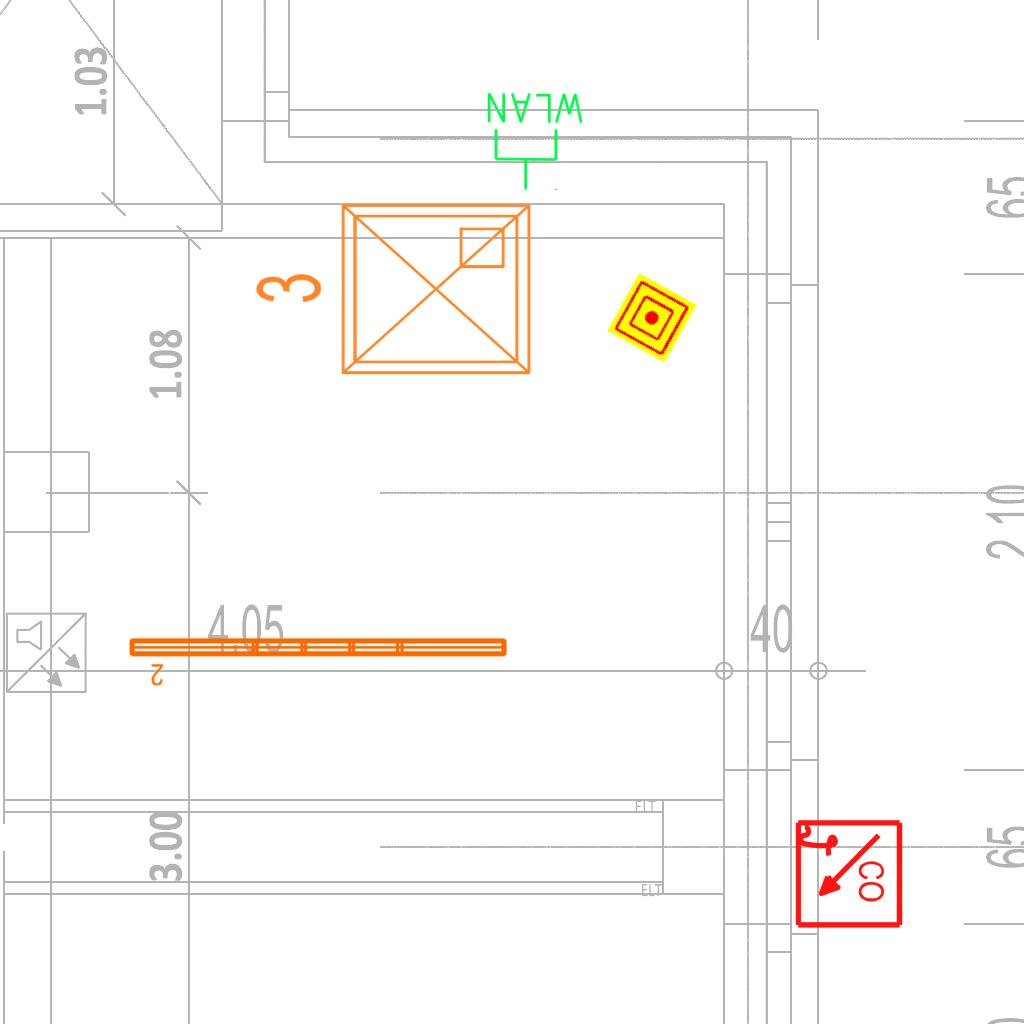Ambulanz_Pendelleuchte_LED: (125, 632, 512, 688)
Einbaudownlights_LED_Konferenzraeume: (245, 189, 545, 397)
NAM-Nichtautomatischer_Melder: (607, 273, 697, 363)
ROA_Rauchmelder_optisch_mit_Signalgeber_(Sockelsirene): (791, 818, 904, 931)
WLAN: (483, 89, 588, 193)
